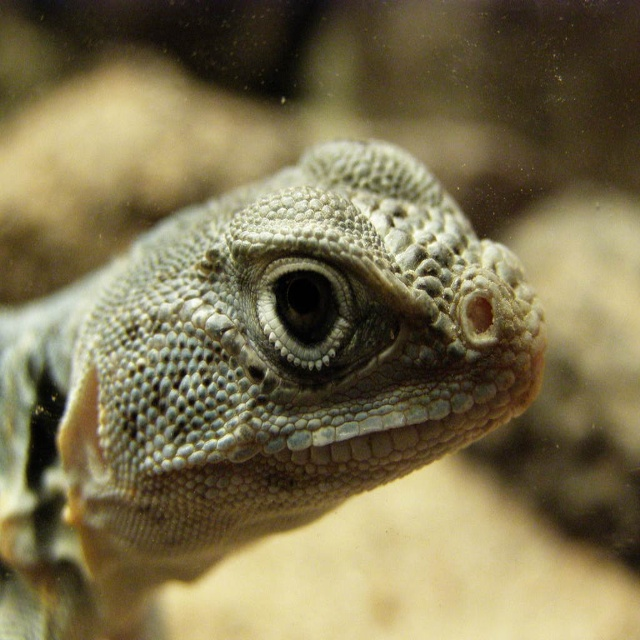Lizard: (13, 151, 575, 622)
